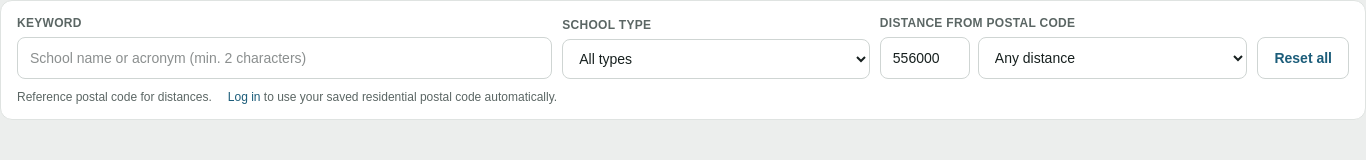
SchoolFilterBar (REQ-1.1 to REQ-1.5, REQ-1.15) › reference postal code (REQ-1.5, BR-4) › warns when the code is incomplete
The width and height of the screenshot is (1366, 160).
Replace the text in the field named "Postal code" with "123" at (925, 58), box x1=880 y1=37 x2=970 y2=79
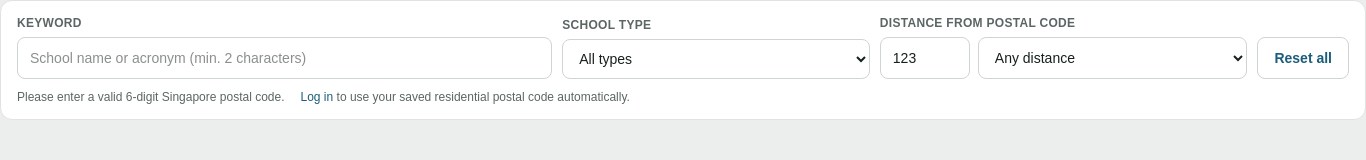
Expected: the text "Please enter a valid 6-digit Singapore postal code." is shown, x1=17 y1=89 x2=284 y2=105
